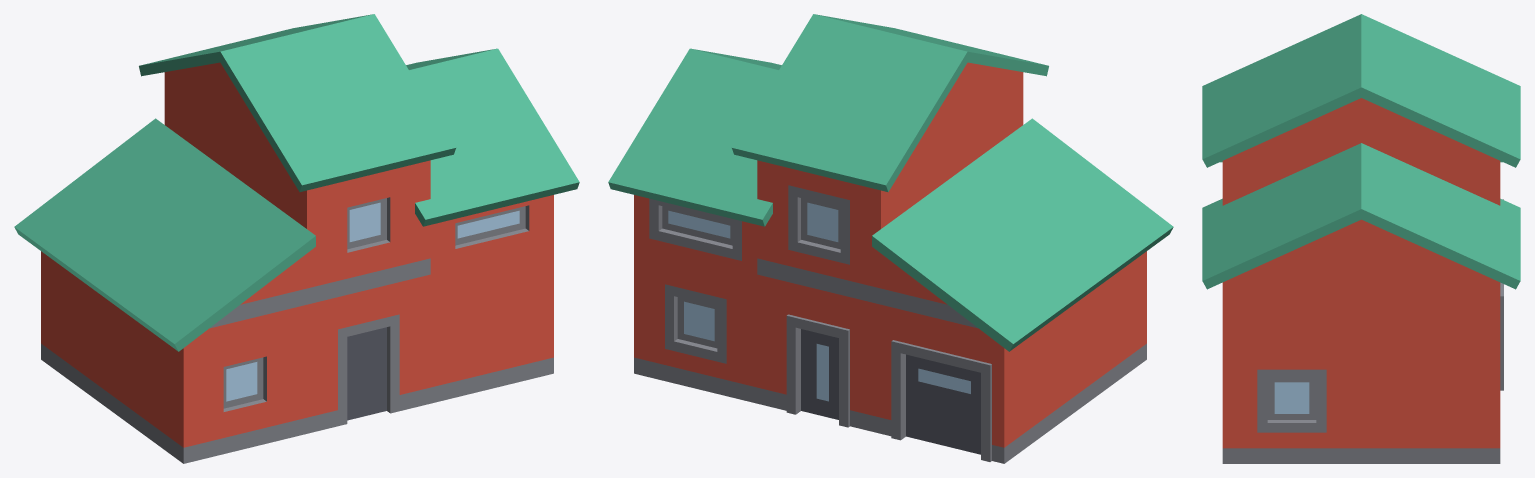
Rendered from house_type14.fbx.
3 views of the same model, side by side, from view 1: azimuth 30°, elevation 25°; view 2: azimuth 150°, elevation 25°; view 3: azimuth 270°, elevation 25° (orthographic). The views are drawn at different scales.
Parts seen in each view (by area): view 1: house_type14; view 2: house_type14; view 3: house_type14.
Part boxes in pixels (box(x1,y1,x2,y2)): house_type14: box(14, 14, 579, 463); house_type14: box(608, 14, 1173, 463); house_type14: box(1202, 14, 1520, 463).
Bounding box in the file's own units: 13.08 × 10.34 × 9.16.
